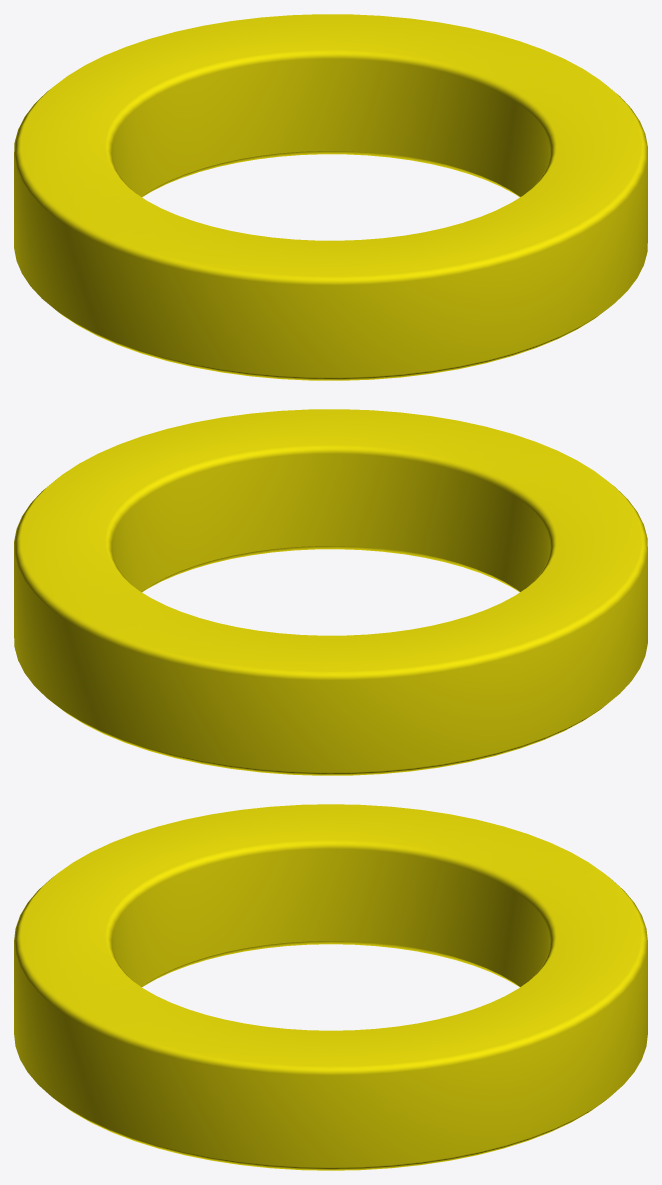
3 renders of one model, top to bottom at view 1: azimuth 30°, elevation 25°; view 2: azimuth 150°, elevation 25°; view 3: azimuth 270°, elevation 25°, orthographic.
Visible parts, largest first — view 1: seal_body; view 2: seal_body; view 3: seal_body.
Part boxes in pixels (box(x1,y1,x2,y2)): seal_body: box(14, 14, 647, 380); seal_body: box(14, 409, 647, 775); seal_body: box(14, 804, 647, 1170).
Size of the model in its own units: 0.055 by 0.01 by 0.055.
